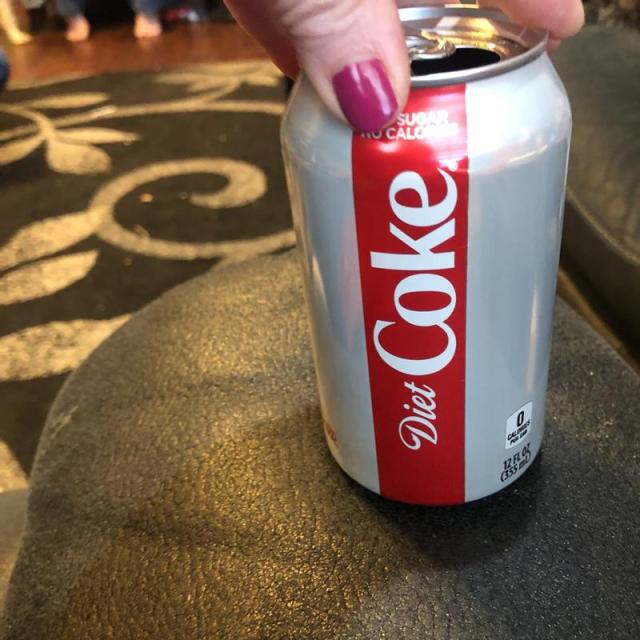Cans: (258, 1, 585, 528)
